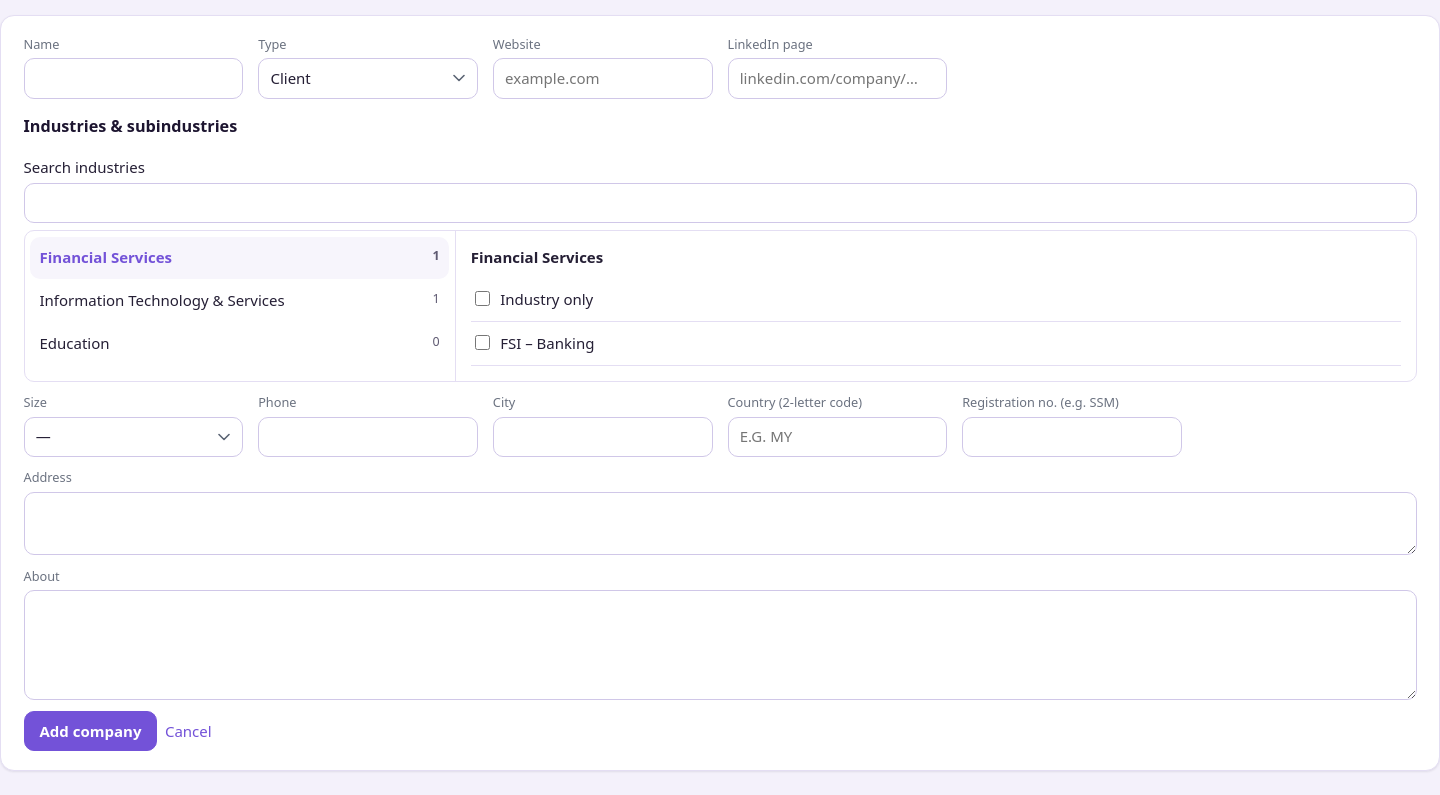
Test case: company form › asks for a name before sending
What coordinates should you click on to do the following:
click the button "Add company"
I would click on:
 (90, 731)
Its box is top-left (24, 711), bottom-right (157, 751).
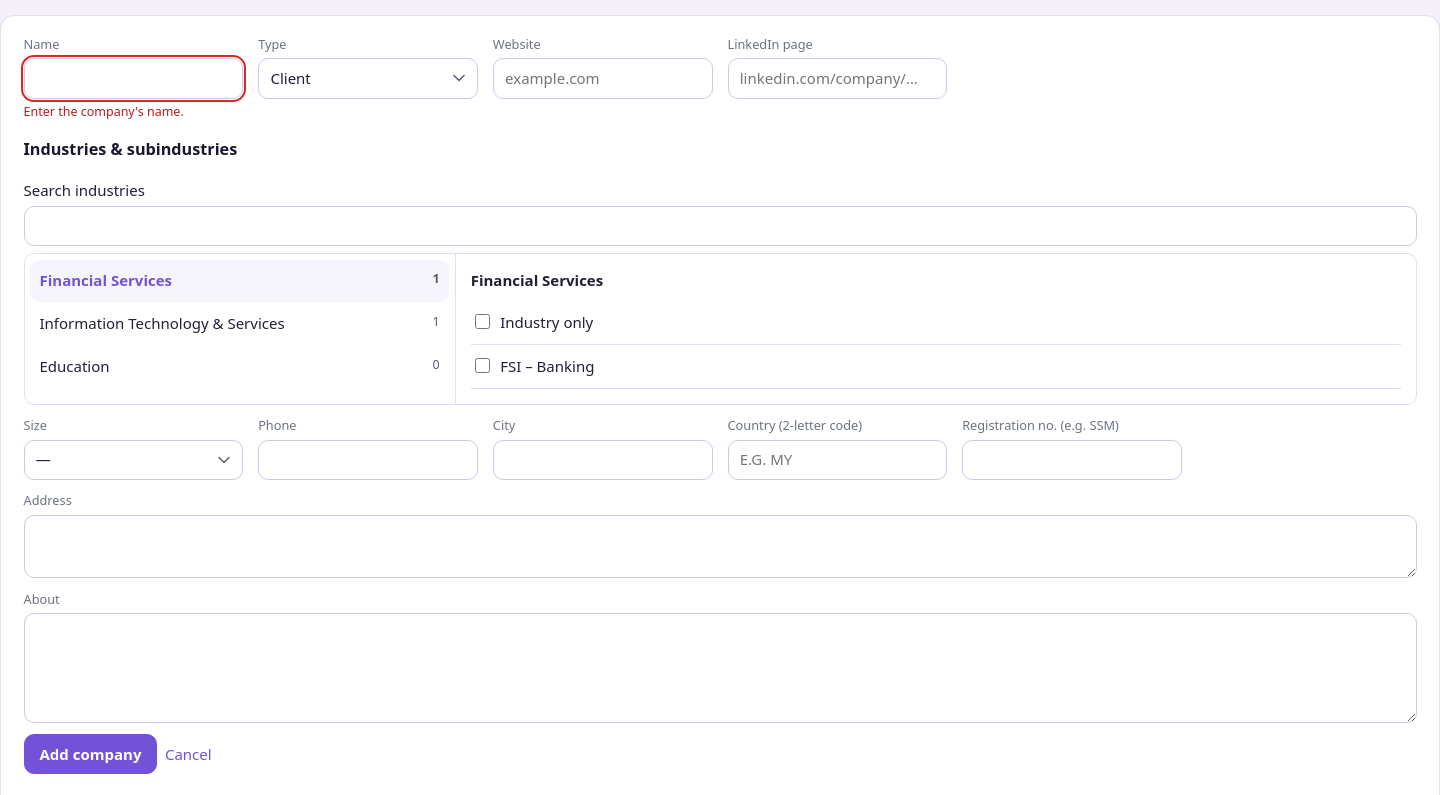
Result: the text "Enter the company's name." is shown at top-left (24, 103), bottom-right (184, 120)
